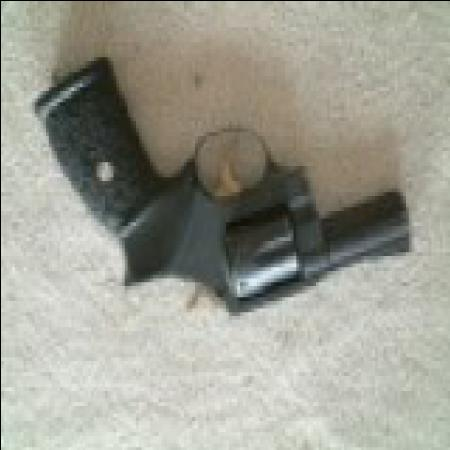Pistol: (29, 53, 400, 322)
